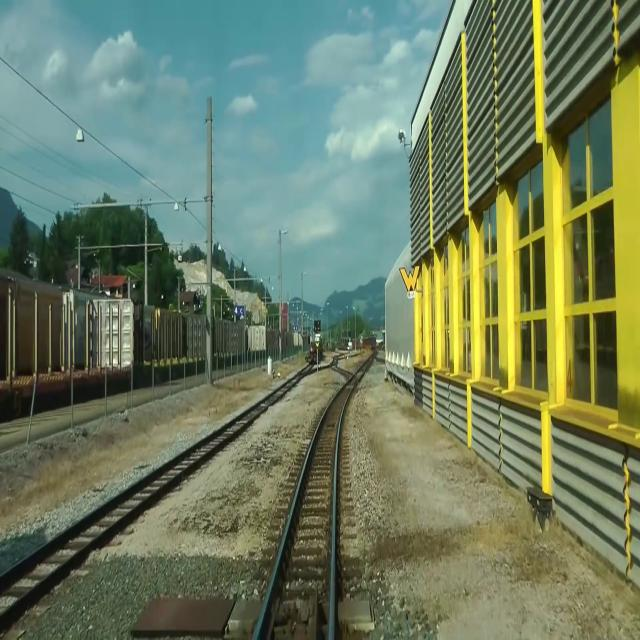rail-track: (0, 392, 278, 609), (257, 378, 354, 639)
